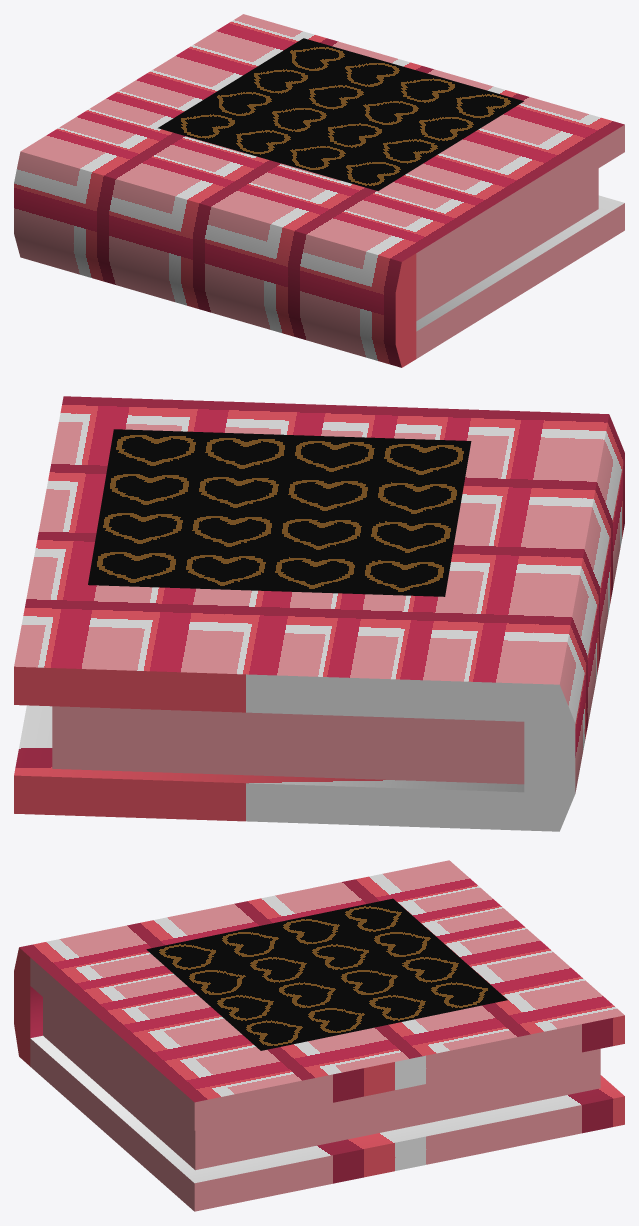
Rendered from 5346so_book_j2.gltf.
3 renders of one model, top to bottom at view 1: azimuth 30°, elevation 25°; view 2: azimuth 150°, elevation 25°; view 3: azimuth 270°, elevation 25°, orthographic. The views are drawn at different scales.
Parts seen in each view (by area): view 1: 5346so_book_j2; view 2: 5346so_book_j2; view 3: 5346so_book_j2.
Boxes of the visible parts, bbox=[...] form: 5346so_book_j2: bbox=[14, 14, 624, 367]; 5346so_book_j2: bbox=[14, 396, 624, 831]; 5346so_book_j2: bbox=[14, 860, 624, 1211].
Bounding box in the file's own units: 0.6226 × 0.1487 × 0.6519.
Materials: 2 (2 with a texture image).
